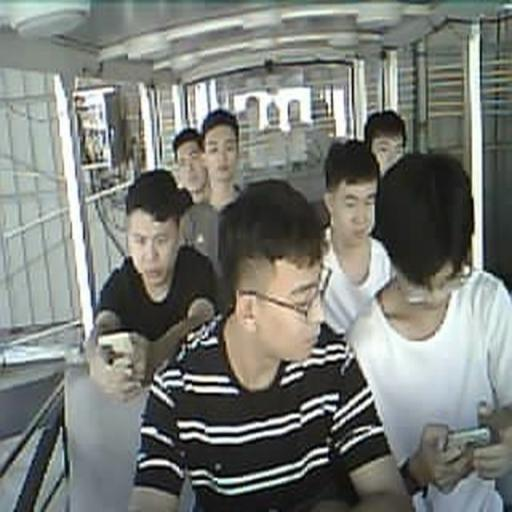persona: (128, 177, 414, 511), (344, 150, 512, 511), (88, 169, 226, 403), (318, 138, 396, 337), (178, 108, 245, 270), (363, 109, 407, 177), (172, 127, 210, 205)
